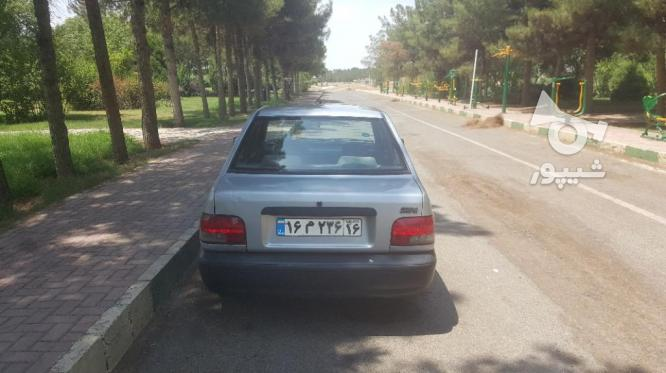car: (274, 217, 365, 239)
